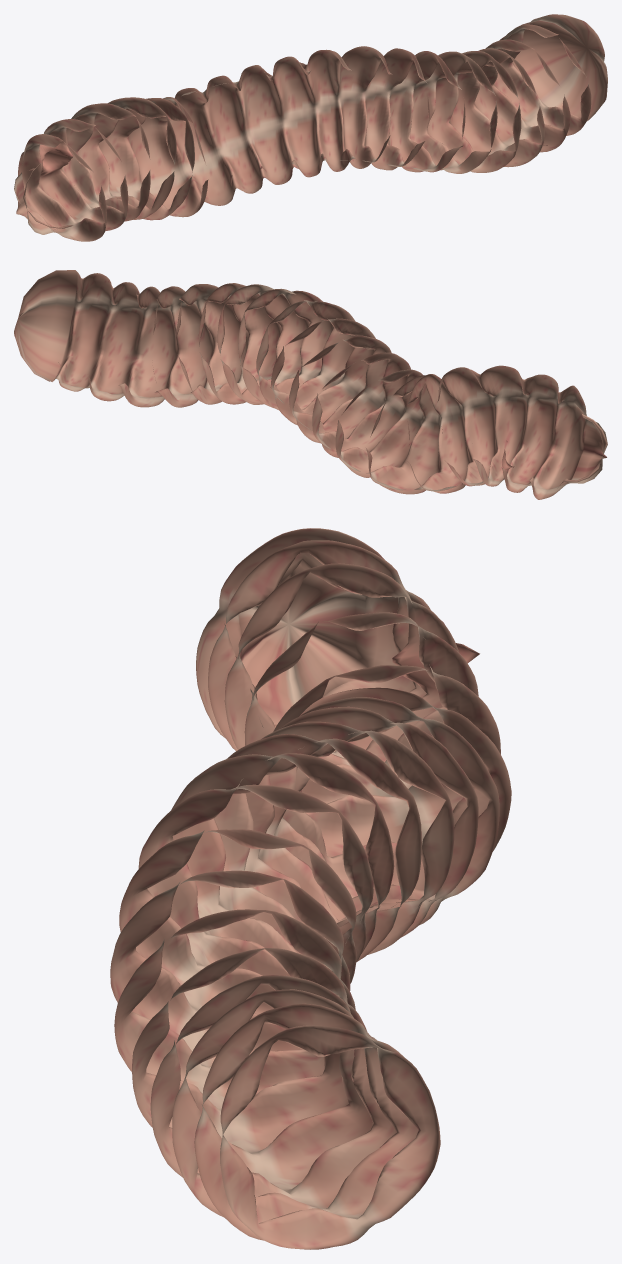
3 renders of one model, top to bottom at view 1: azimuth 30°, elevation 25°; view 2: azimuth 150°, elevation 25°; view 3: azimuth 270°, elevation 25°, orthographic. The views are drawn at different scales.
Visible parts, largest first — view 1: li_wall; view 2: li_wall; view 3: li_wall.
Part boxes in pixels (box(x1,y1,x2,y2)): li_wall: box(14, 14, 607, 241); li_wall: box(14, 270, 607, 499); li_wall: box(110, 528, 511, 1249).
Bounding box in the file's own units: 31.82 × 7.31 × 9.56.
